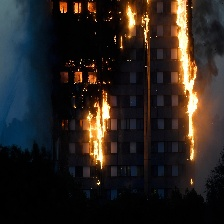fire: (176, 1, 199, 162), (83, 88, 115, 187), (124, 3, 151, 49), (114, 36, 122, 52), (190, 179, 196, 187)
